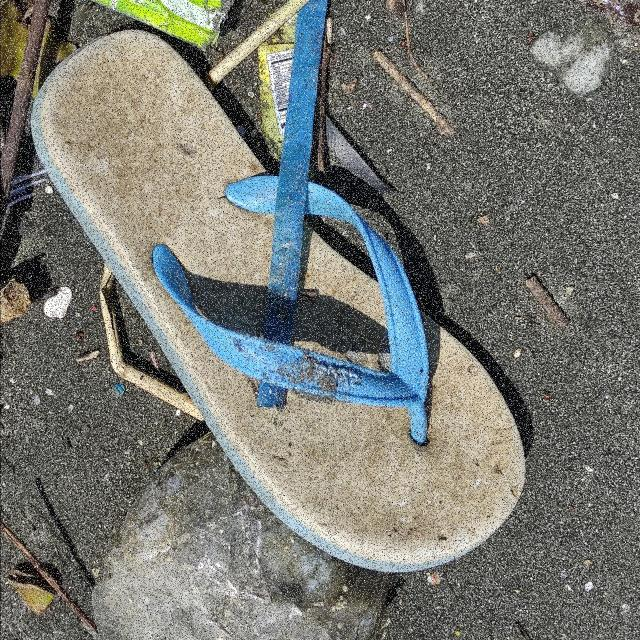rubber_waste: (23, 25, 531, 577)
